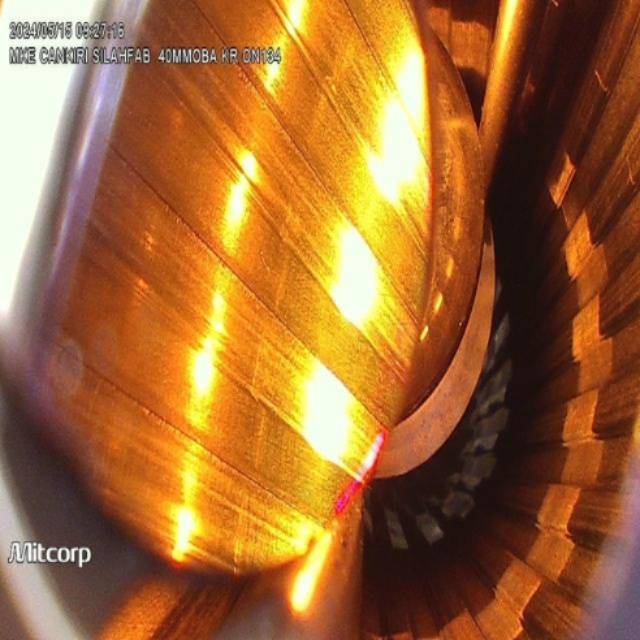hata_2.3: (148, 166, 263, 323), (137, 379, 237, 484)
